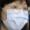with_mask: (1, 1, 30, 30)
